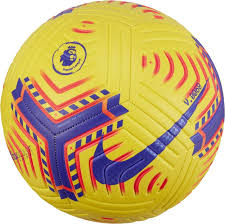football ball: (1, 1, 223, 224)
